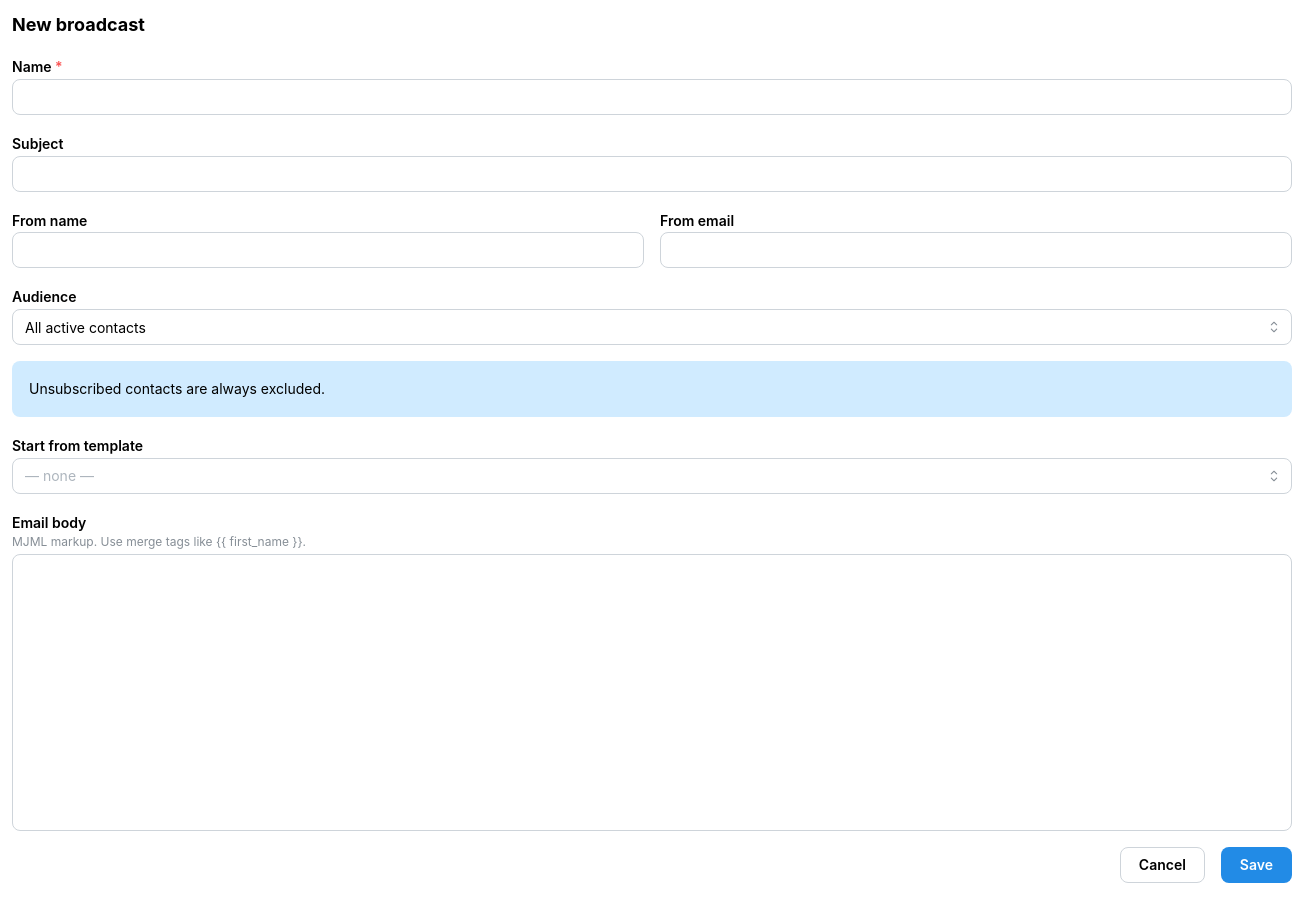
it: picking a template copies its subject and body into the form
Click the dropdown labelled "Start from template". click: (652, 476)
box: [12,458,1292,494]
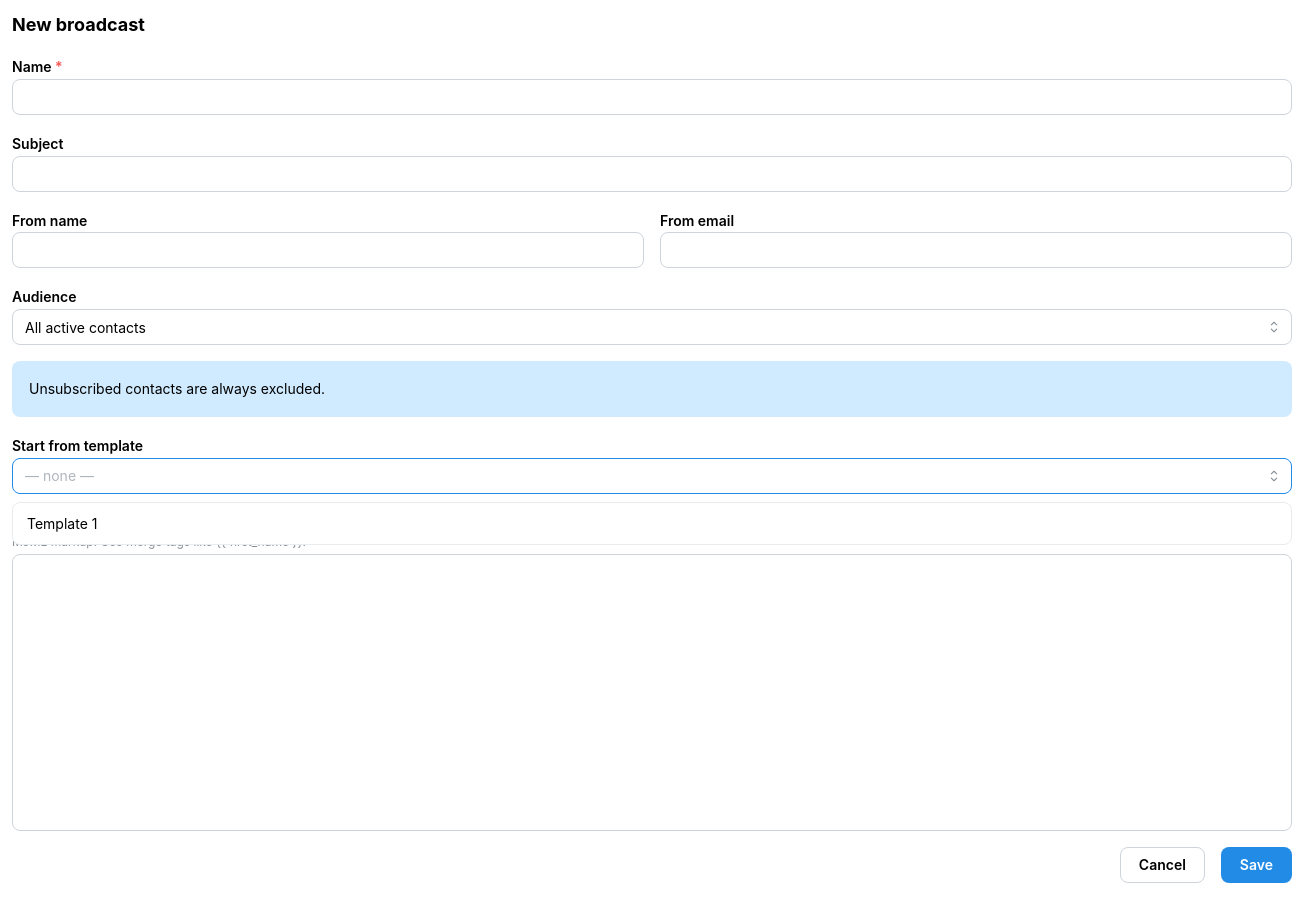
Click the option "Template 1". click: (62, 523)
box: [27,515,97,532]
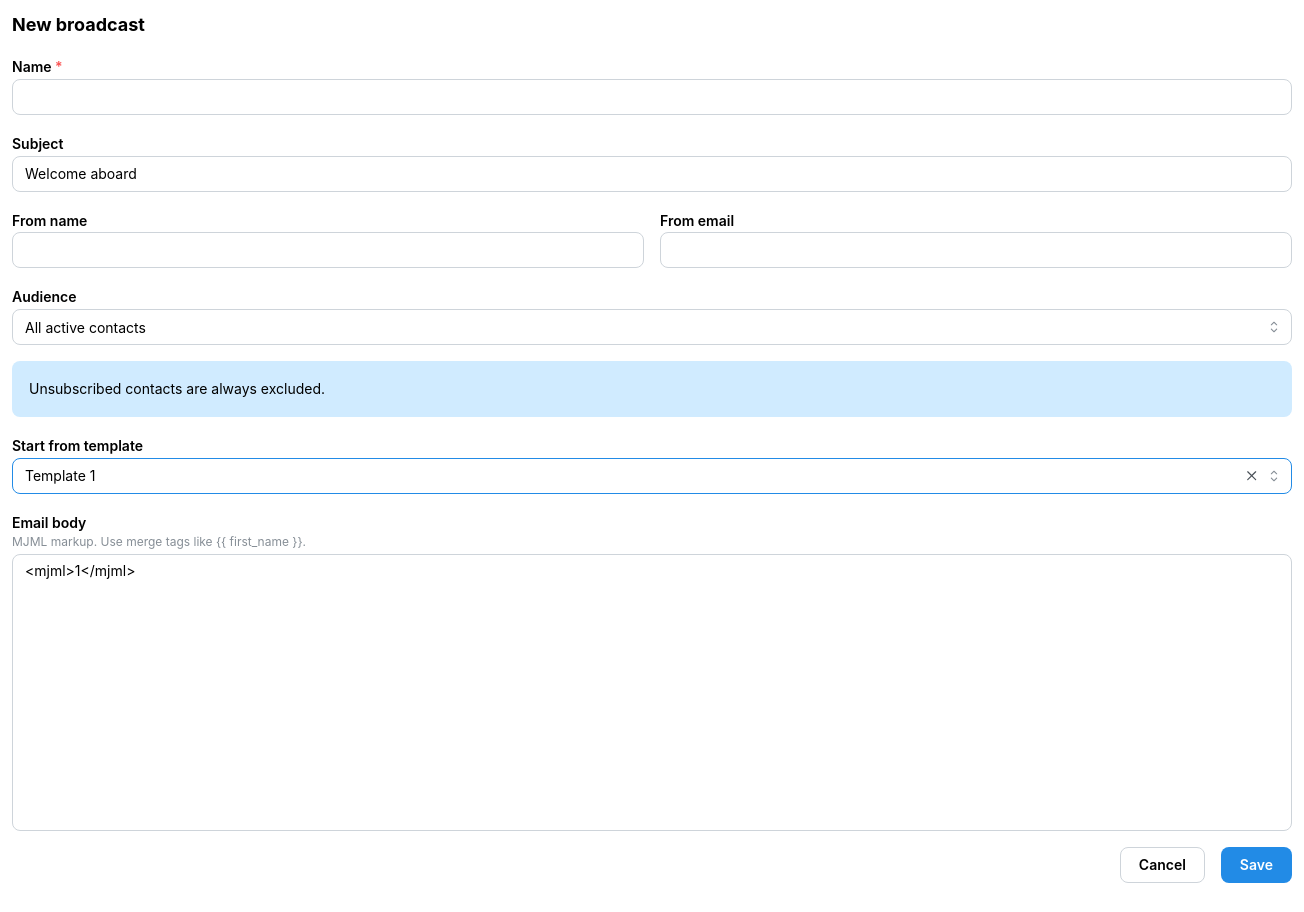
Check: the field labelled "Subject" holds "Welcome aboard", box [12,156,1292,192]
Check: the text box labelled "Email body" holds "<mjml>1</mjml>", box [12,554,1292,831]
